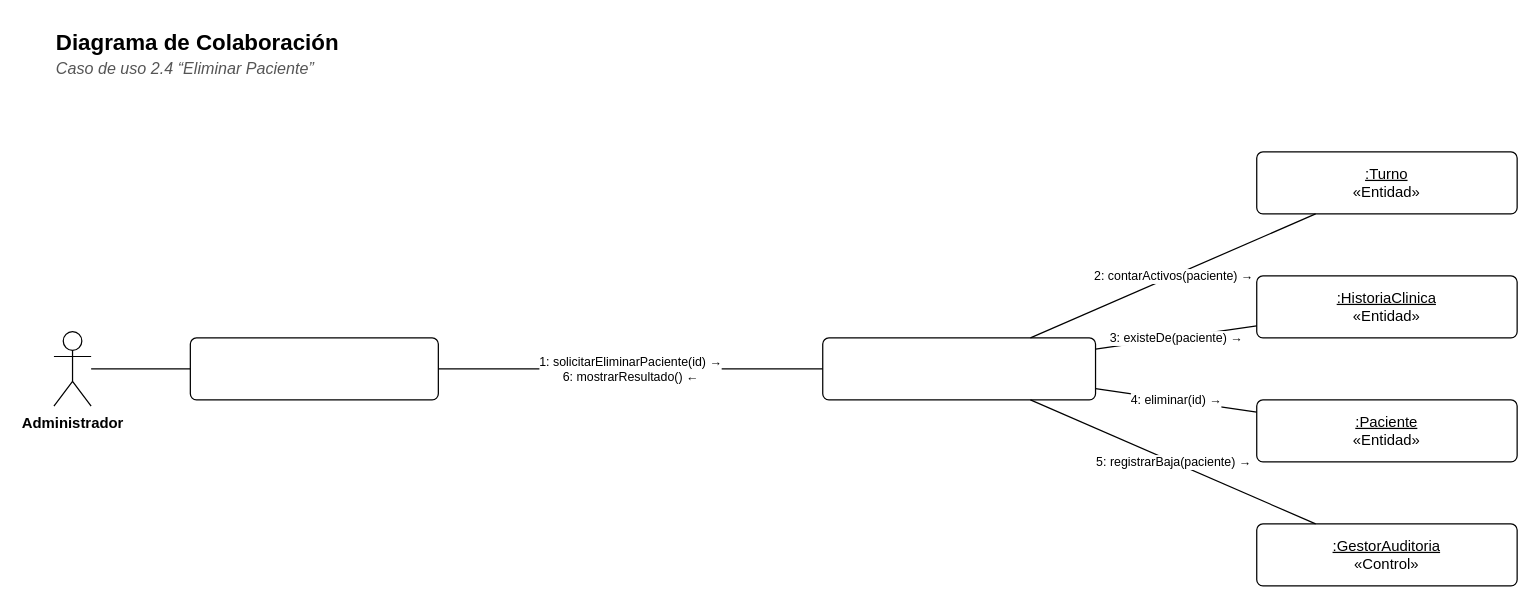
The diagram is 1539 pixels wide and 608 high, and some of its shapes have lost their labels. Each missing label, with the centre of its shape:
:GestorPacientes «Control»: the point at 959,368
:UI Pacientes «Interfaz»: the point at 313,368
